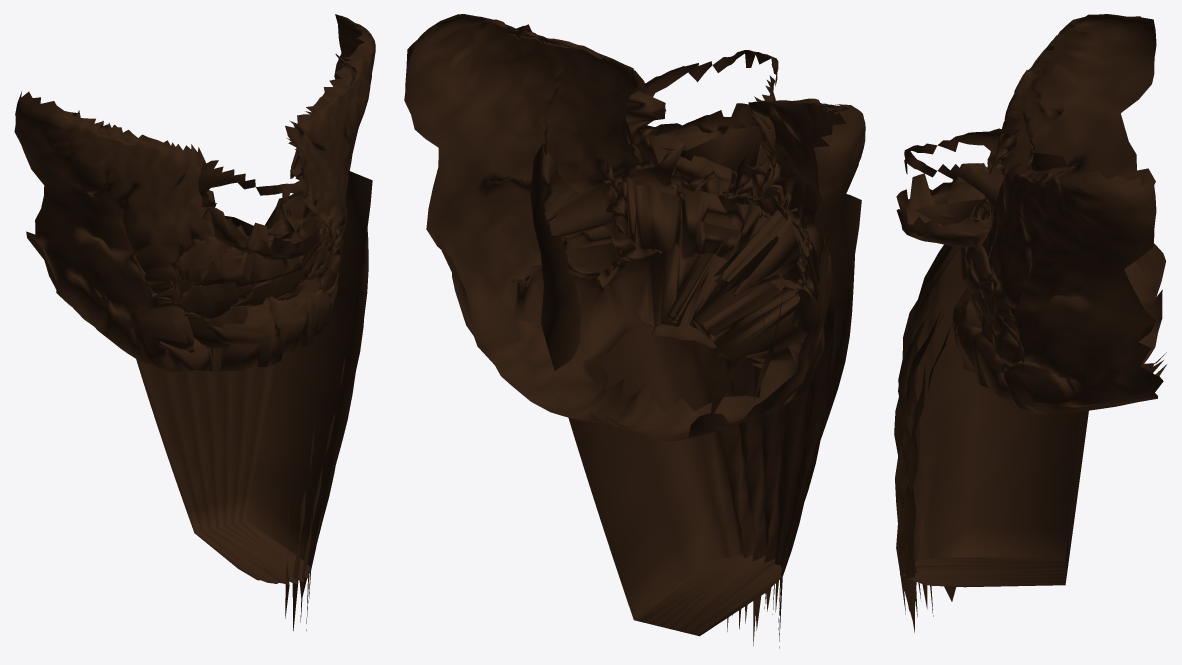
Rendered from kopf.bart.wikinger.glb.
The picture shows the model from 3 angles, left to right: view 1: azimuth 30°, elevation 25°; view 2: azimuth 150°, elevation 25°; view 3: azimuth 270°, elevation 25°; orthographic projection. The views are drawn at different scales.
Parts seen in each view (by area): view 1: bart; view 2: bart; view 3: bart.
Boxes of the visible parts, x1,y1,x2,y2 form: bart: (14,14,375,630); bart: (404,14,865,648); bart: (894,14,1166,632).
Bounding box in the file's own units: 0.1774 × 0.2608 × 0.1167.
